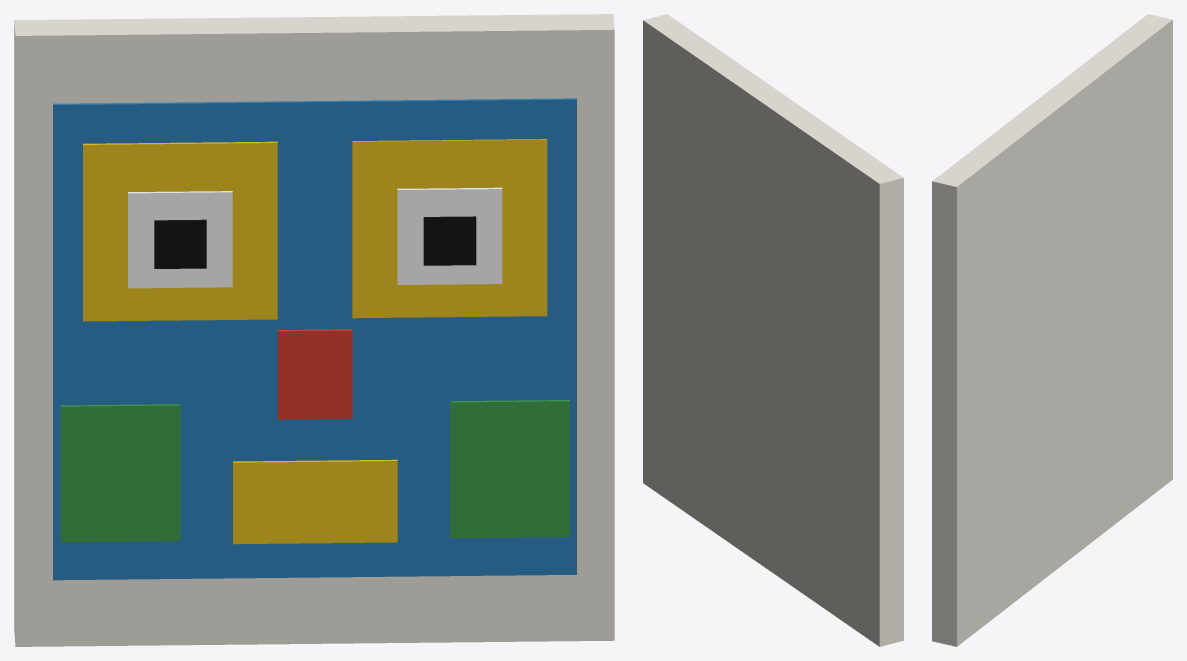
File: sn_owl.glb
3 renders of one model, left to right at view 1: azimuth 30°, elevation 25°; view 2: azimuth 150°, elevation 25°; view 3: azimuth 270°, elevation 25°, orthographic. The views are drawn at different scales.
Visible parts, largest first — view 1: sn_owl_lod0; view 2: sn_owl_lod0; view 3: sn_owl_lod0.
Part boxes in pixels (box(x1,y1,x2,y2)): sn_owl_lod0: box(14, 14, 614, 646); sn_owl_lod0: box(643, 14, 903, 646); sn_owl_lod0: box(932, 14, 1172, 646).
Size of what is drawn, in the model's own units: 7.26 by 9 by 4.27.
